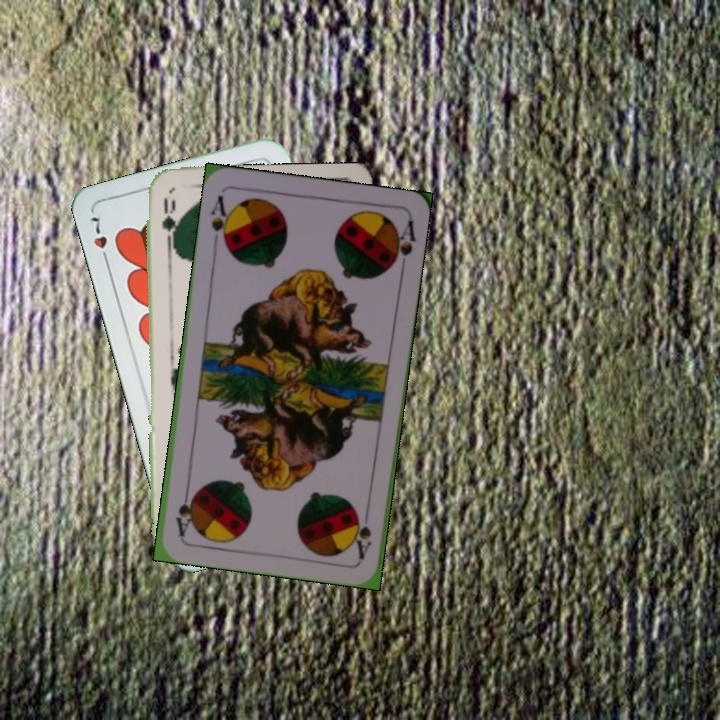GO: (158, 194, 179, 250)
H7: (87, 212, 112, 268)
SA: (206, 191, 235, 250), (350, 502, 374, 562)
